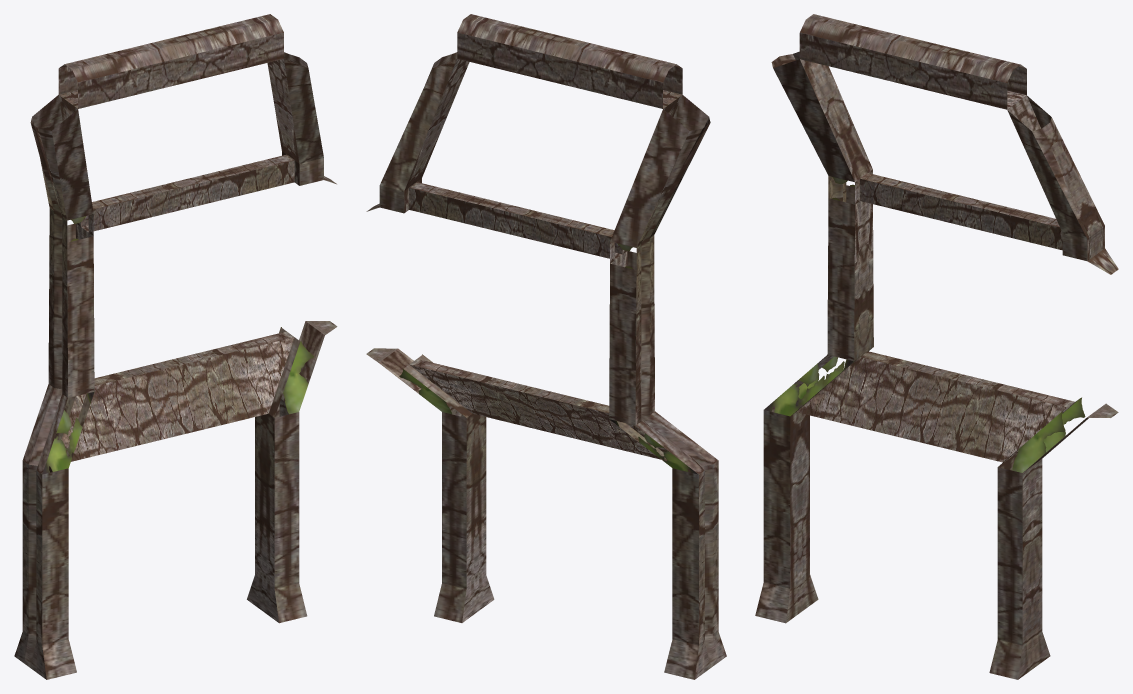
Rendered from Bord_pyl.FBX.
The picture shows the model from 3 angles, left to right: view 1: azimuth 30°, elevation 25°; view 2: azimuth 150°, elevation 25°; view 3: azimuth 330°, elevation 25°; orthographic projection.
Visible parts, largest first — view 1: Bord_pyl; view 2: Bord_pyl; view 3: Bord_pyl.
Part boxes in pixels (x1,y1,x2,y2): Bord_pyl: (14, 14, 337, 679); Bord_pyl: (366, 14, 726, 679); Bord_pyl: (755, 14, 1118, 679).
Bounding box in the file's own units: 1.1 × 0.2654 × 1.94.
